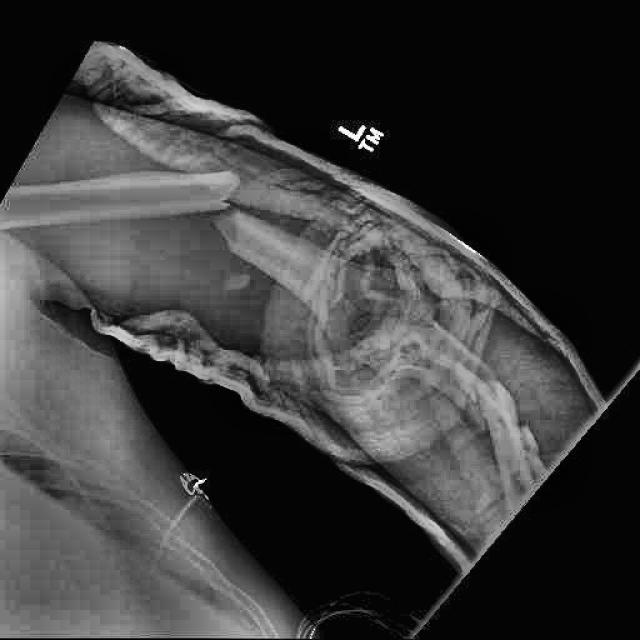humerus: (422, 332, 603, 555), (296, 229, 460, 416), (153, 150, 297, 325)
